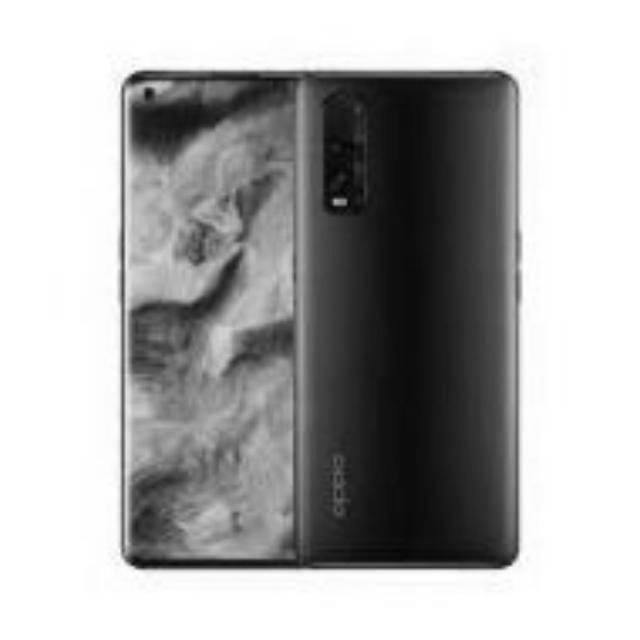fake: (119, 72, 519, 558)
